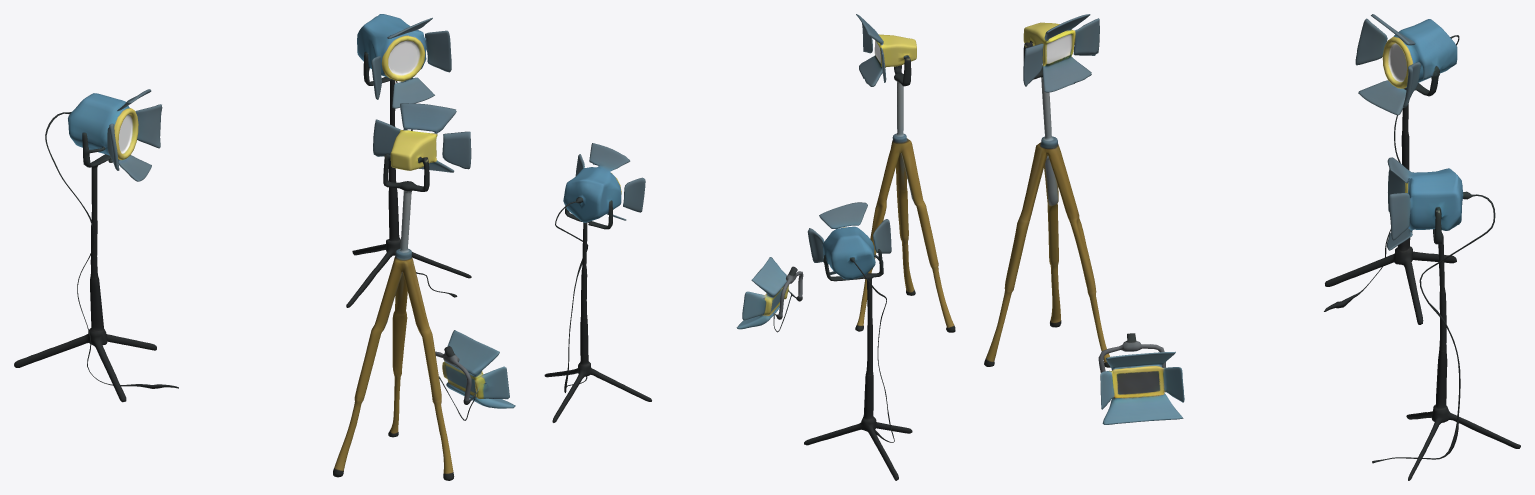
The model's file is original.glb.
The picture shows the model from 3 angles, left to right: view 1: azimuth 30°, elevation 25°; view 2: azimuth 150°, elevation 25°; view 3: azimuth 270°, elevation 25°; orthographic projection. The views are drawn at different scales.
Visible parts, largest first — view 1: model; view 2: model; view 3: model.
Boxes of the visible parts, left/top/right/bottom form: model: left=14, top=14, right=515, bottom=480; model: left=544, top=14, right=955, bottom=480; model: left=984, top=14, right=1520, bottom=480.
Bounding box in the file's own units: 1.84 × 1.43 × 1.9.
Materials: 1 (1 with a texture image).
